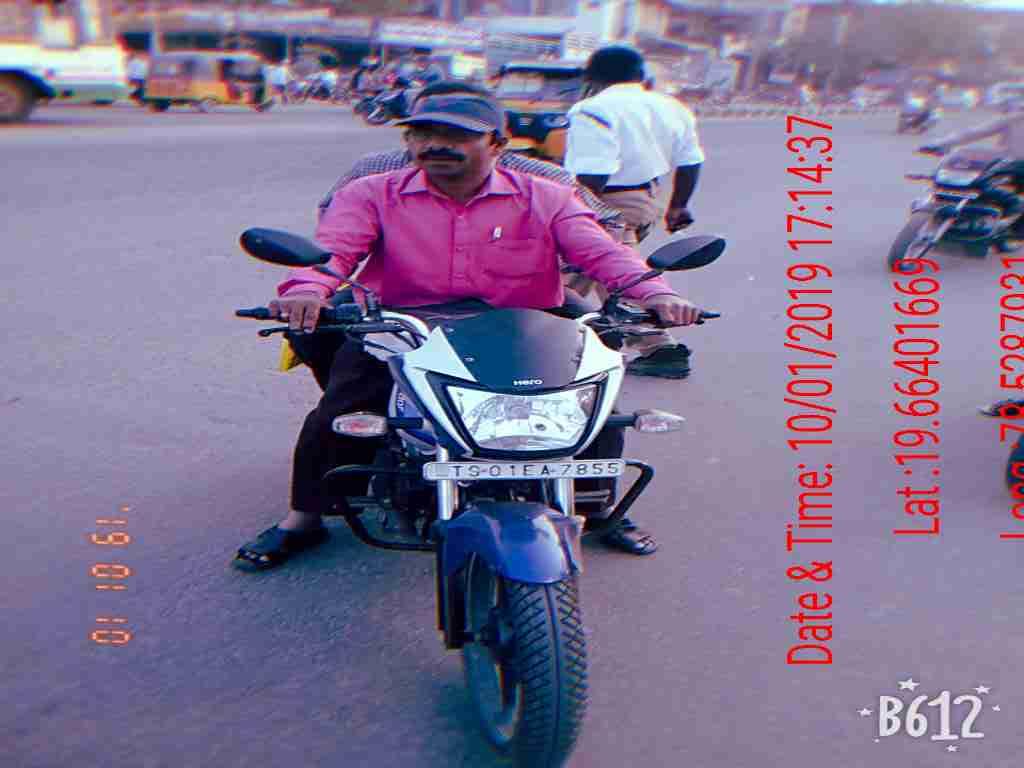plate: (416, 454, 628, 483)
